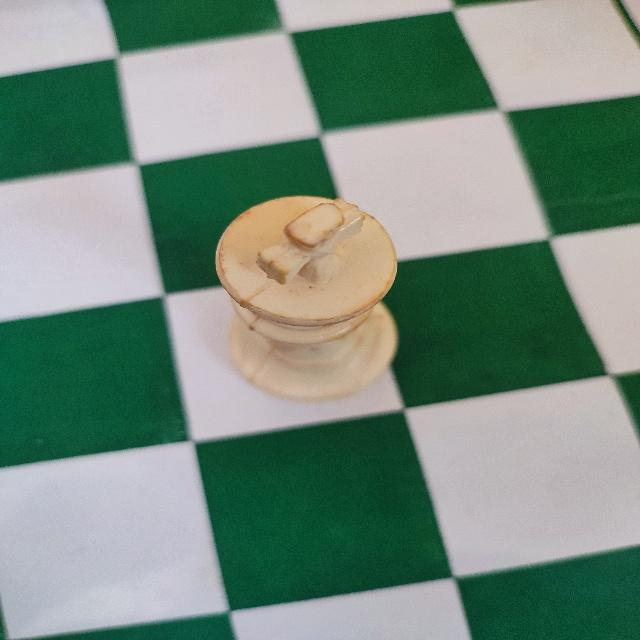King: (210, 189, 404, 405)
